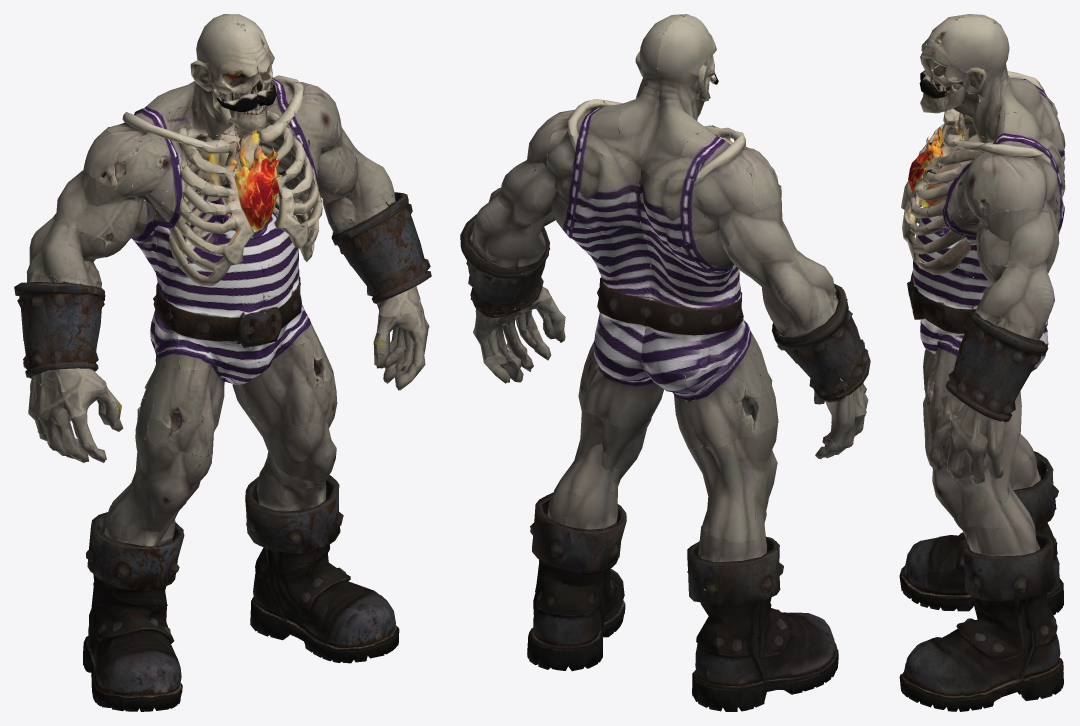
The model's file is 04_skeletal_strongman.glb.
3 views of the same model, side by side, from view 1: azimuth 30°, elevation 25°; view 2: azimuth 150°, elevation 25°; view 3: azimuth 270°, elevation 25° (orthographic). The views are drawn at different scales.
Visible parts, largest first — view 1: mesh_node; view 2: mesh_node; view 3: mesh_node.
Part boxes in pixels (bbox=[...]): mesh_node: bbox=[14, 14, 431, 711]; mesh_node: bbox=[460, 14, 870, 711]; mesh_node: bbox=[899, 14, 1065, 711].
Bounding box in the file's own units: 1.23 × 1.9 × 0.4558.
Materials: 1 (1 with a texture image).
